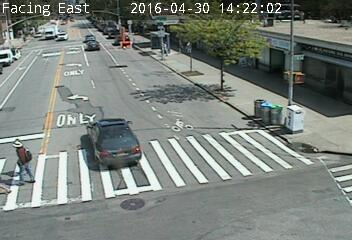neg: (113, 29, 139, 63), (30, 44, 54, 76), (75, 67, 95, 93)
pos: (158, 37, 175, 59), (183, 36, 197, 54)
